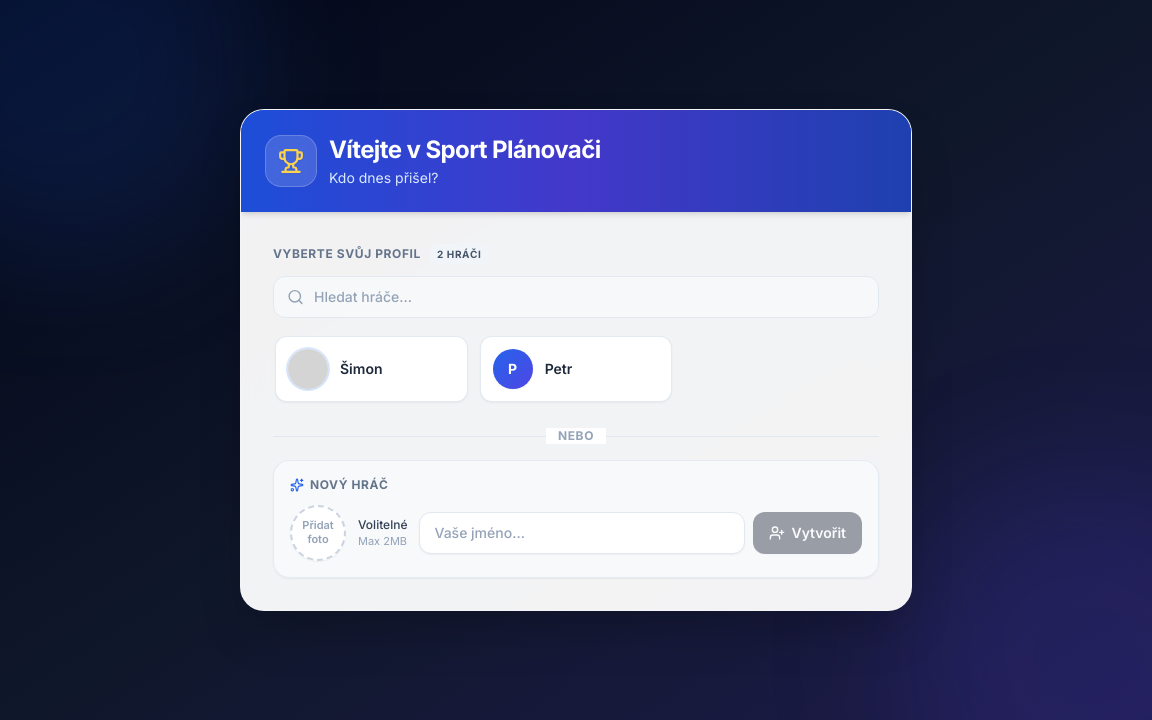
Test: LoginScreen - Photo Upload Feature › search functionality works with photo users
Expected: the text "Šimon" is shown, 340,359 -> 382,379
Expected: the text "Petr" is shown, 545,359 -> 572,379
Type "simon" into the field with placeholder "Hledat hráče..." at (576, 297), box 273,276 -> 879,318
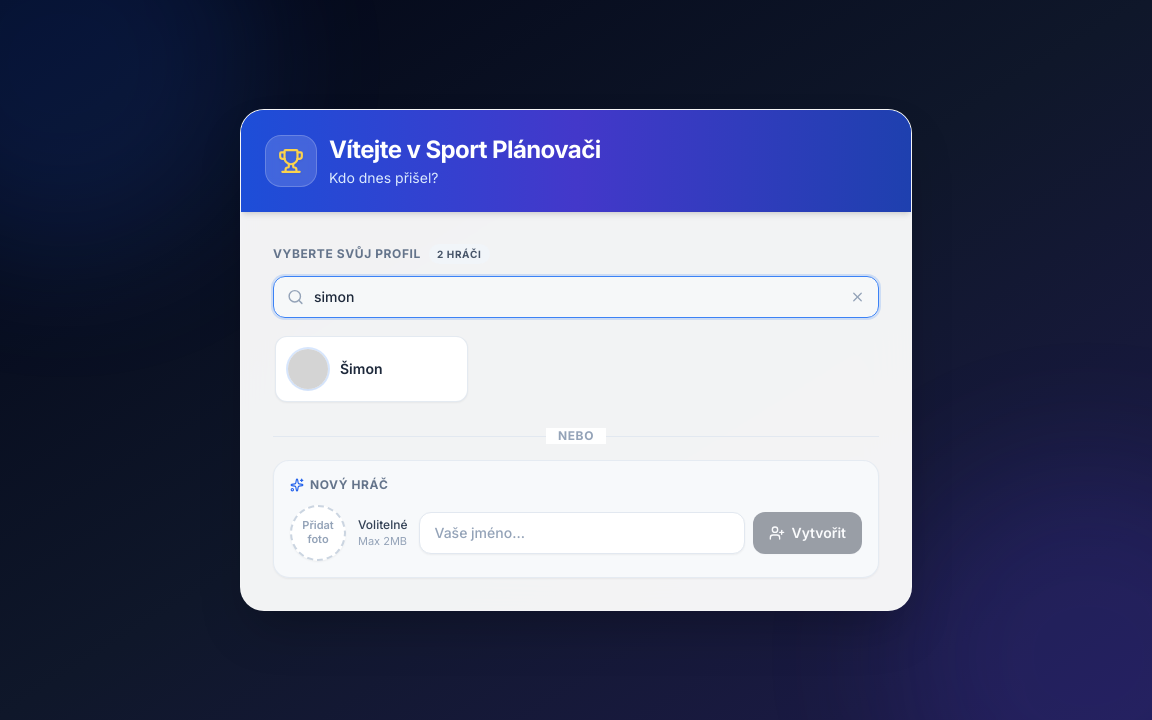
Expected: the text "Šimon" is shown, 340,359 -> 382,379
Expected: the button "Petr" is gone
